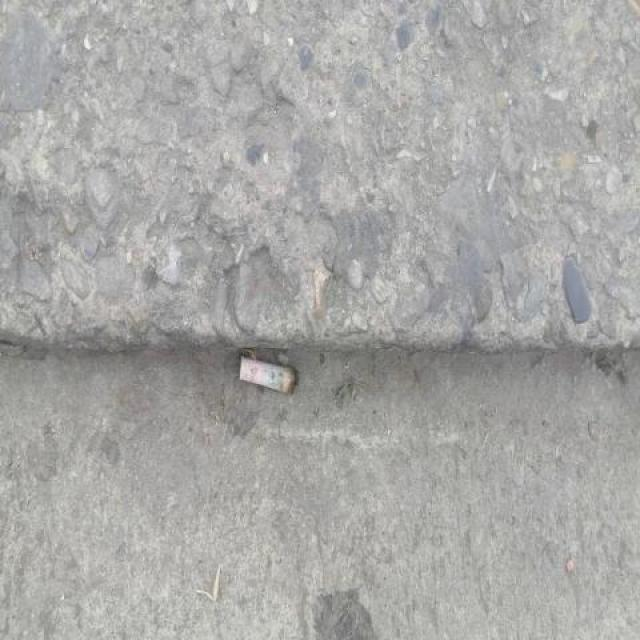non-organic waste: (234, 353, 302, 398)
